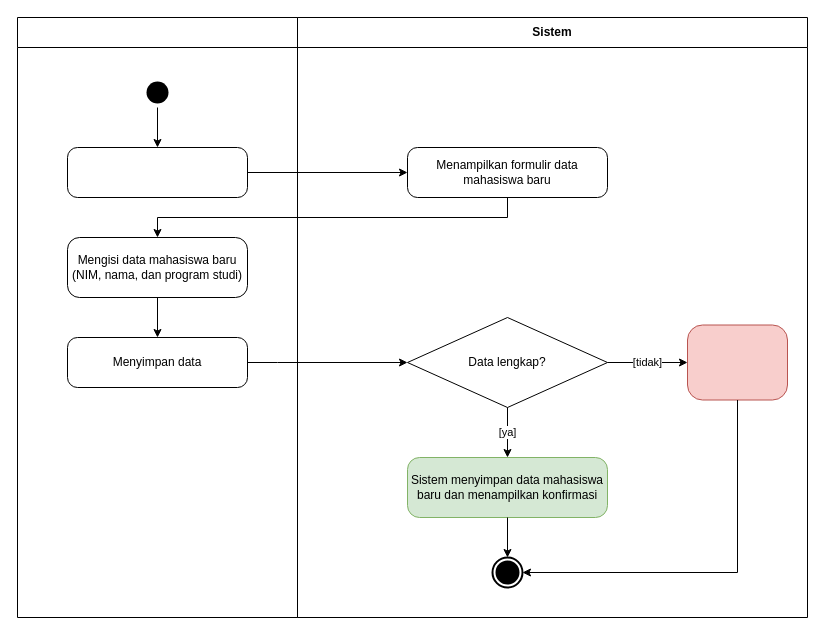
The diagram is 825 pixels wide and 635 high, and some of its shapes have lost their labels. Each missing label, with the box of its shape:
Admin Akademik: (16, 16, 298, 618)
Membuka fungsi Tambah Data Mahasiswa: (66, 146, 248, 198)
Menolak penyimpanan dan meminta Admin melengkapi data: (686, 324, 788, 400)
